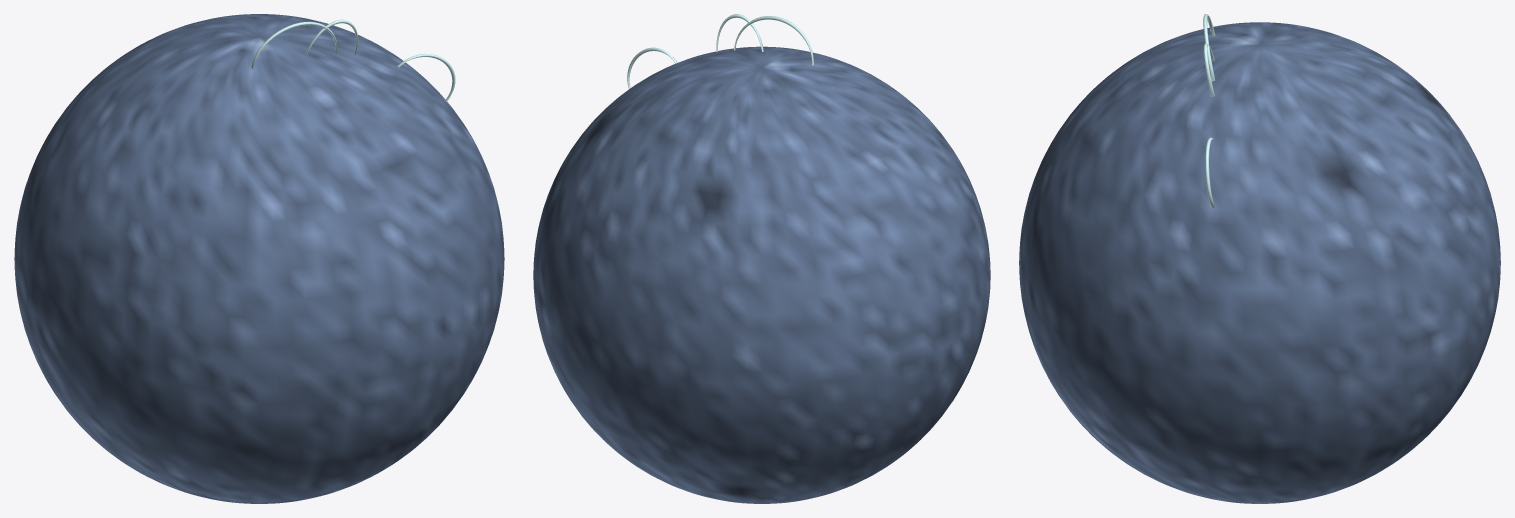
Rendered from Star_24.fbx.
The picture shows the model from 3 angles, left to right: view 1: azimuth 30°, elevation 25°; view 2: azimuth 150°, elevation 25°; view 3: azimuth 270°, elevation 25°; orthographic projection. The views are drawn at different scales.
Parts seen in each view (by area): view 1: Star_24; view 2: Star_24; view 3: Star_24.
Boxes of the visible parts, <box> form: Star_24: <box>14,14,504,503</box>; Star_24: <box>533,14,990,503</box>; Star_24: <box>1019,14,1500,503</box>.
Bounding box in the file's own units: 200 × 214 × 200.
